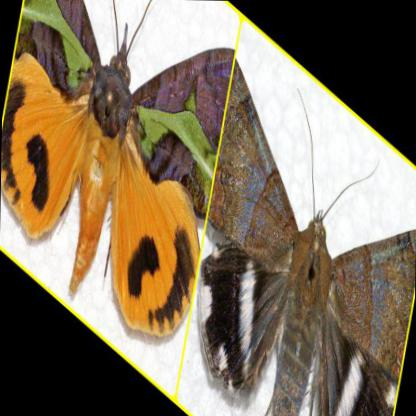fruit sucking moth: (2, 0, 235, 344)
